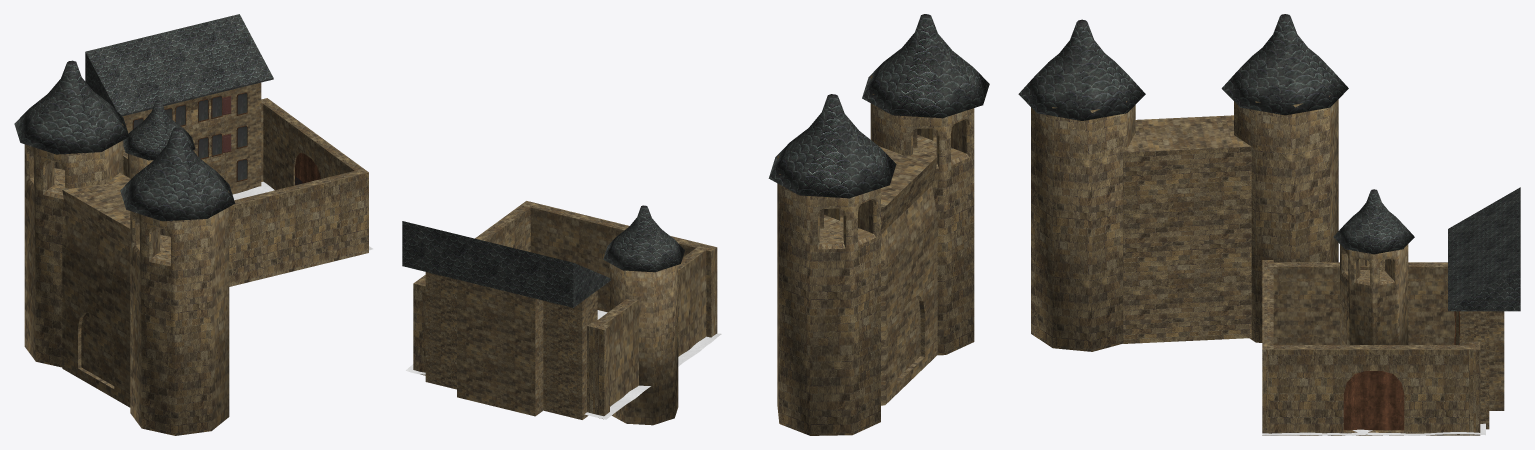
Rendered from CastleCourtyard.glb.
3 views of the same model, side by side, from view 1: azimuth 30°, elevation 25°; view 2: azimuth 150°, elevation 25°; view 3: azimuth 270°, elevation 25° (orthographic). The views are drawn at different scales.
Parts seen in each view (by area): view 1: Plane, Tower.002, BuildingMain.001, Cube, Tower.001, TowerRoof.001, TowerRoof.002, TowerRoof, Gate; view 2: Plane, Tower.001, BuildingMain.001, Tower.002, Cube, TowerRoof.001, TowerRoof.002, TowerRoof; view 3: Plane, BuildingMain.001, Tower.002, Tower.001, Cube, TowerRoof.001, TowerRoof.002, Gate, TowerRoof.
Part boxes in pixels (box(x1,y1,x2,y2)): Plane: box(122, 82, 372, 286); Tower.002: box(130, 190, 229, 435); BuildingMain.001: box(62, 172, 130, 407); Cube: box(85, 14, 273, 116); Tower.001: box(24, 123, 123, 367); TowerRoof.001: box(14, 60, 129, 154); TowerRoof.002: box(120, 127, 235, 221); TowerRoof: box(123, 100, 195, 160); Gate: box(295, 153, 320, 185); Plane: box(406, 201, 721, 425); Tower.001: box(777, 155, 880, 435); BuildingMain.001: box(879, 146, 937, 405); Tower.002: box(870, 75, 974, 355); Cube: box(402, 221, 610, 307); TowerRoof.001: box(768, 94, 896, 198); TowerRoof.002: box(862, 14, 989, 118); TowerRoof: box(603, 205, 684, 272); Plane: box(1262, 244, 1504, 435); BuildingMain.001: box(1123, 115, 1251, 343); Tower.002: box(1031, 101, 1135, 351); Tower.001: box(1234, 95, 1338, 342); Cube: box(1448, 187, 1520, 311); TowerRoof.001: box(1221, 14, 1348, 115); TowerRoof.002: box(1018, 19, 1145, 120); Gate: box(1343, 371, 1404, 430); TowerRoof: box(1333, 189, 1414, 254).
Bounding box in the file's own units: 37.05 × 29.6 × 43.96.
Materials: 10 (10 with a texture image).
